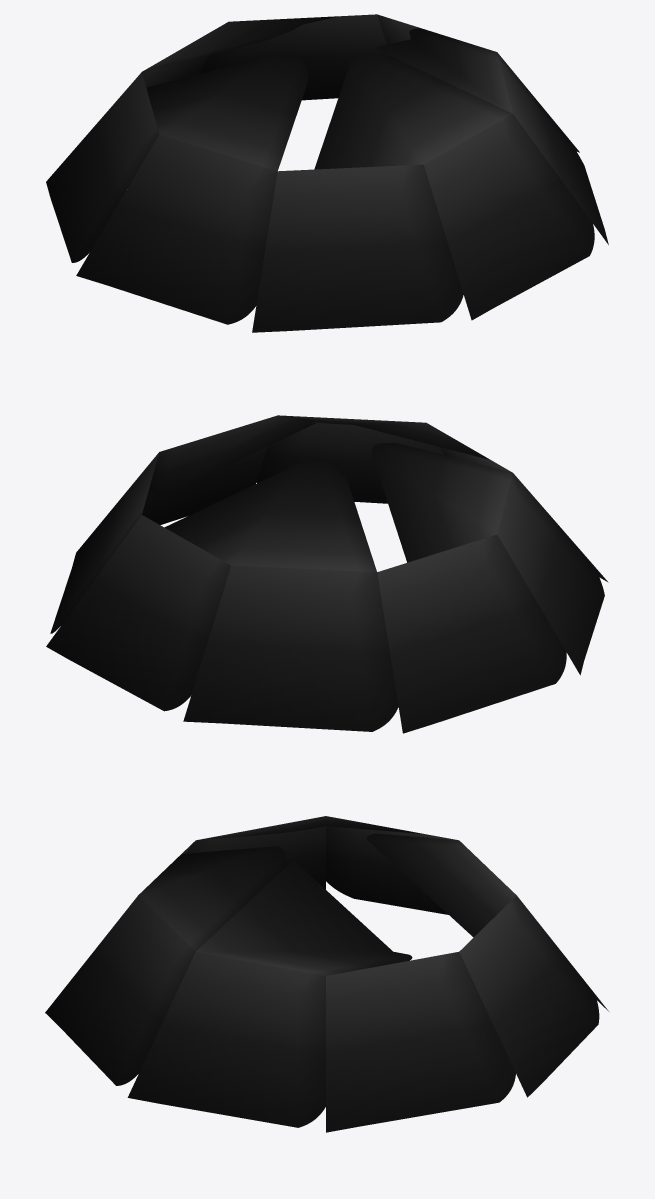
The picture shows the model from 3 angles, top to bottom: view 1: azimuth 30°, elevation 25°; view 2: azimuth 150°, elevation 25°; view 3: azimuth 270°, elevation 25°; orthographic projection. The views are drawn at different scales.
Parts seen in each view (by area): view 1: T1L3M002_10; view 2: T1L3M002_10; view 3: T1L3M002_10.
Part boxes in pixels (x1,y1,x2,y2): T1L3M002_10: (46, 14, 608, 332); T1L3M002_10: (46, 415, 608, 733); T1L3M002_10: (45, 816, 608, 1132).
Size of the model in its own units: 0.2021 by 0.0791 by 0.2021.
